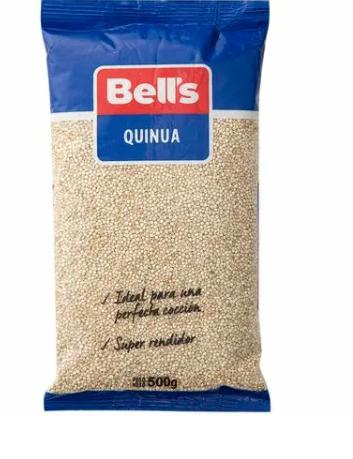brand: (95, 67, 210, 114)
net_weight: (144, 369, 194, 391)
product_name: (95, 117, 211, 161)
